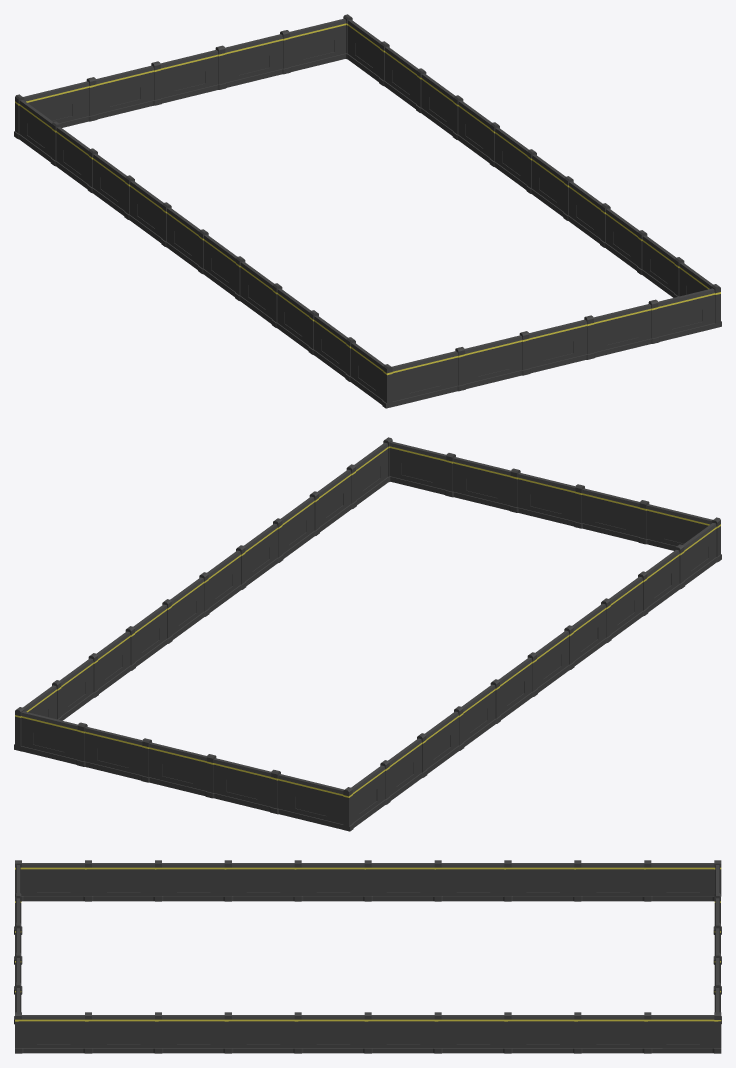
The model's file is Wall.fbx.
3 views of the same model, one above another, from view 1: azimuth 30°, elevation 25°; view 2: azimuth 150°, elevation 25°; view 3: azimuth 270°, elevation 25° (orthographic). The views are drawn at different scales.
Visible parts, largest first — view 1: Wall; view 2: Wall; view 3: Wall.
Part boxes in pixels (x1,y1,x2,y2): Wall: (14,14,721,408); Wall: (14,437,721,831); Wall: (14,860,721,1053).
Size of the model in its own units: 14556 by 1690 by 27982.
Materials: 1 (1 with a texture image).
